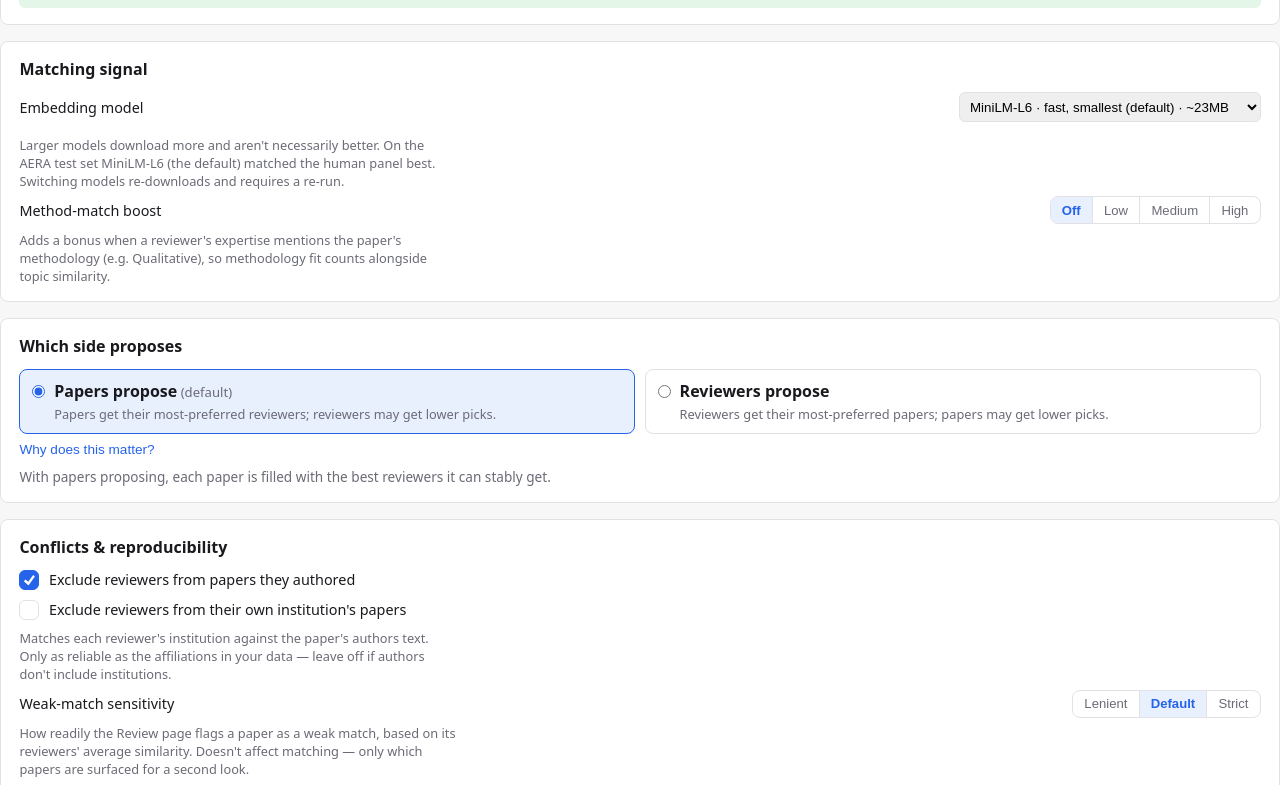
it: SettingsScreen › updates the effect line when switching to reviewers proposing
(page scrolled)
Click the radio button labelled "Reviewers propose". click: (664, 391)
box: [658,385,671,398]
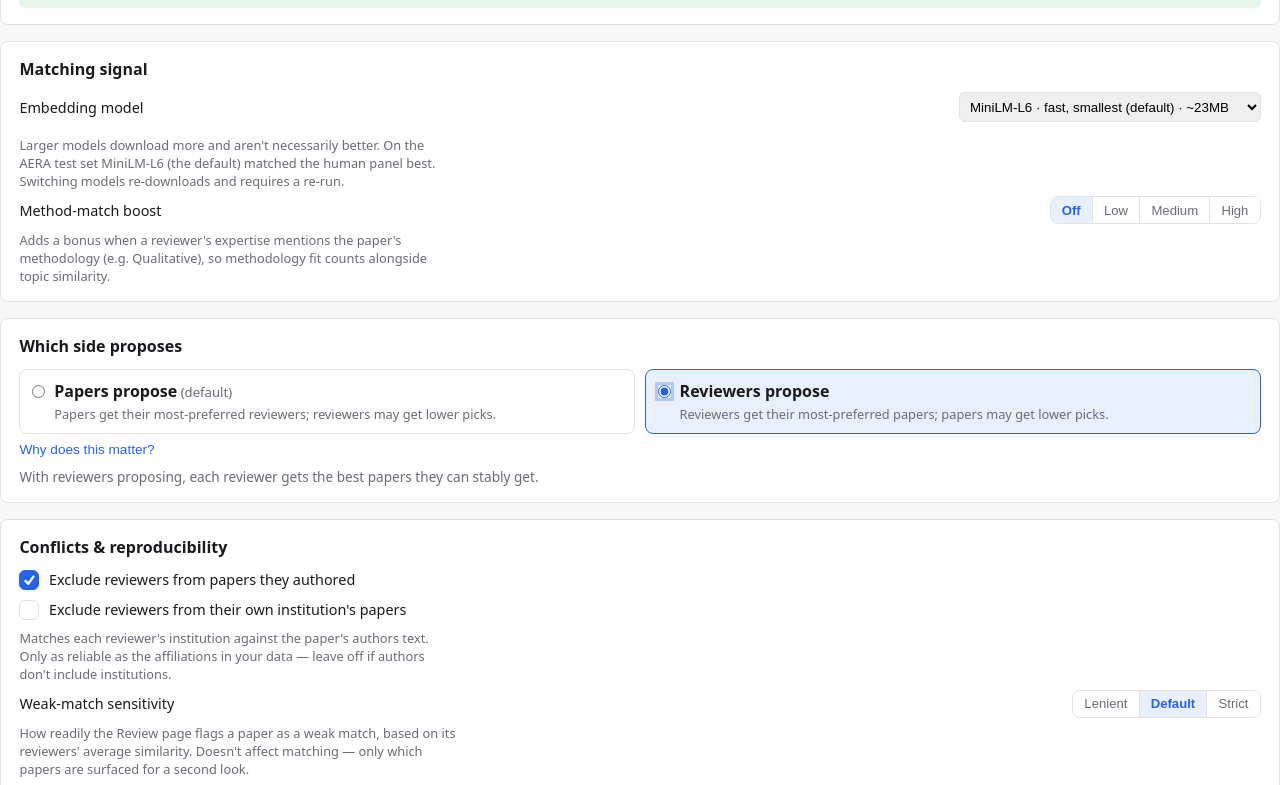
Expected: the text "each reviewer gets the best papers they can stably get" is shown, [19,467,539,486]
